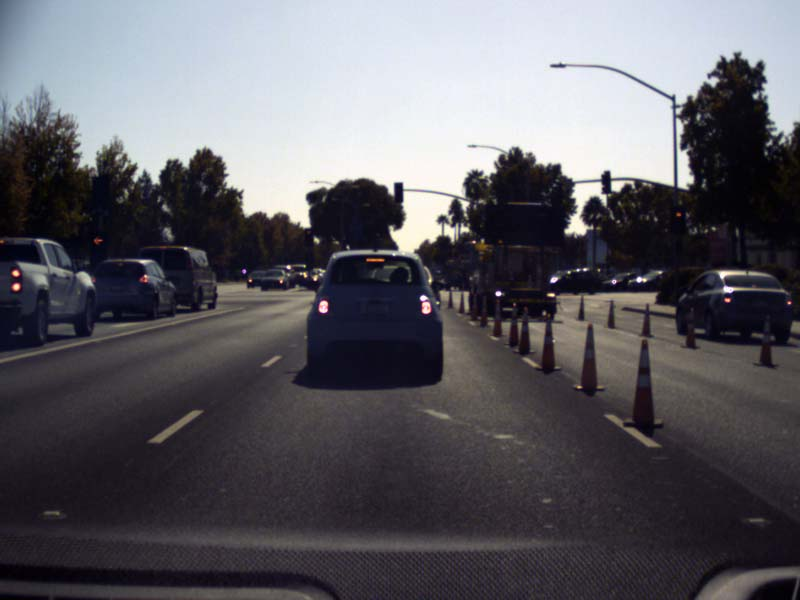Red: (89, 231, 106, 268), (671, 206, 684, 234), (305, 229, 313, 245)
